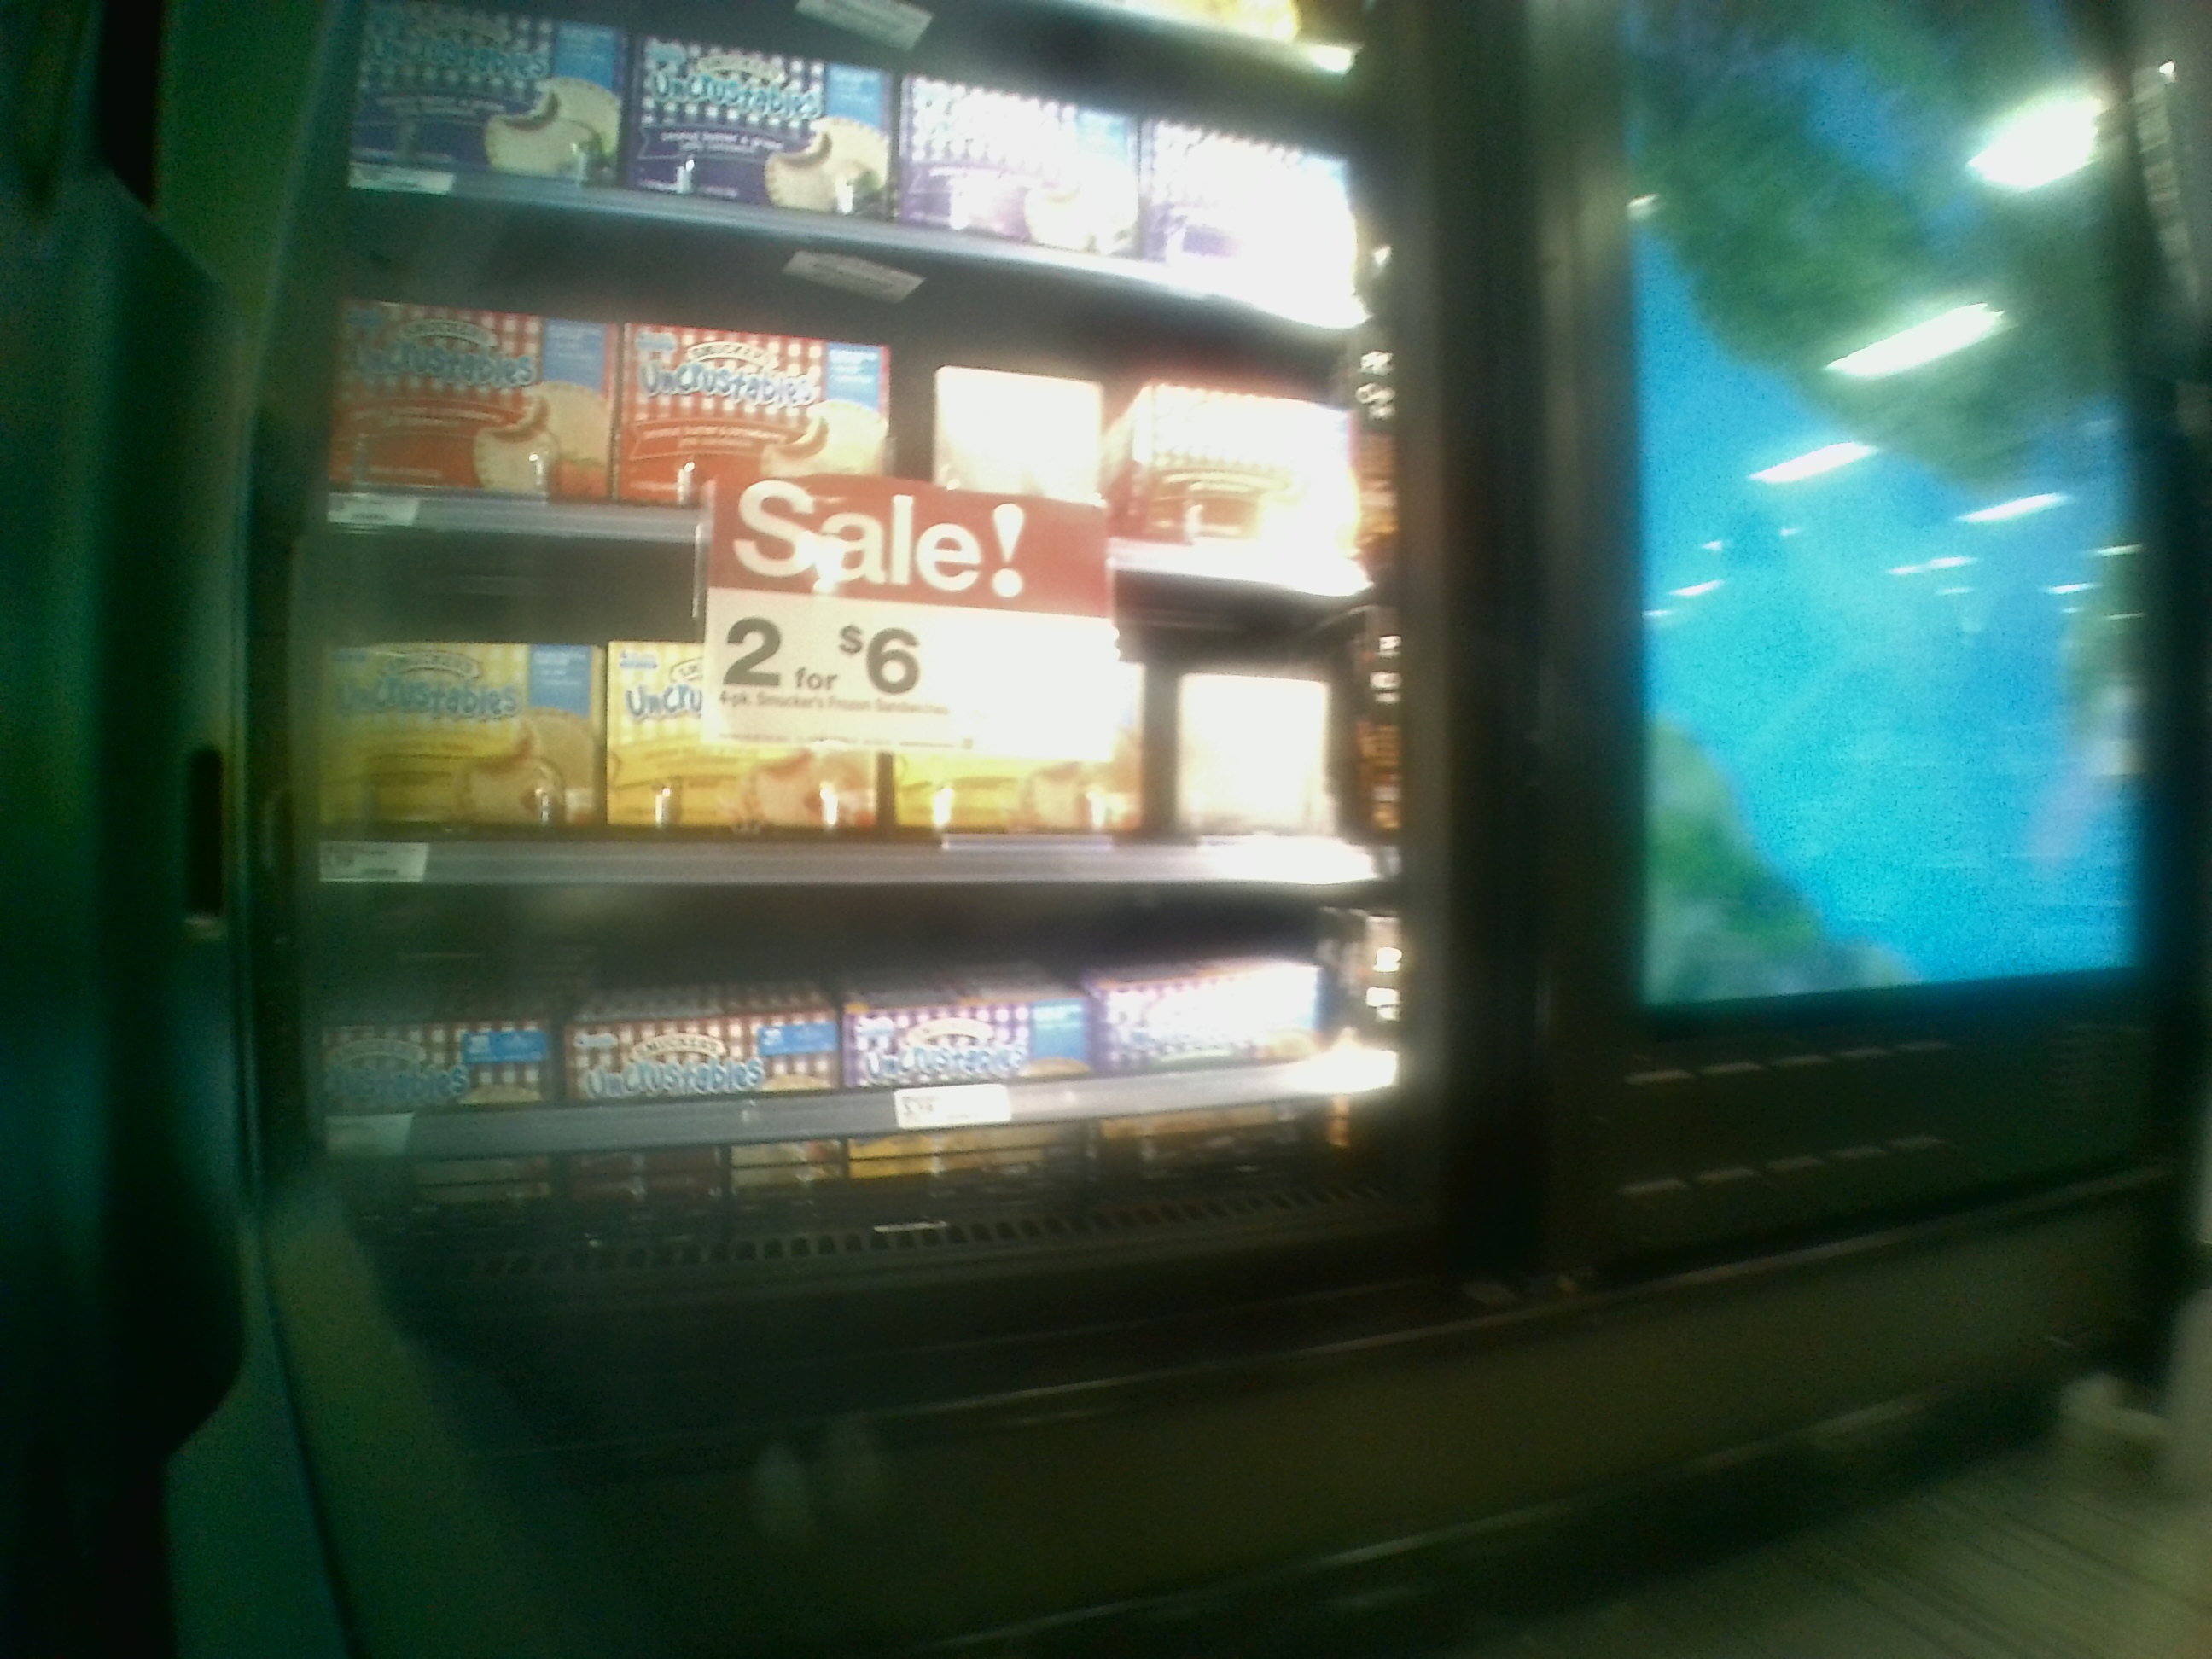shelf: (314, 171, 1395, 575), (273, 859, 1399, 1243), (291, 512, 1385, 878)
